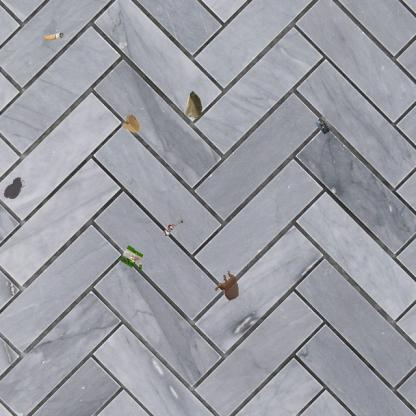dirty: (117, 243, 146, 273), (183, 89, 204, 120), (313, 113, 335, 137), (120, 112, 142, 134), (162, 218, 183, 236), (43, 31, 65, 42)
liquid: (214, 270, 238, 300), (3, 176, 26, 200)
